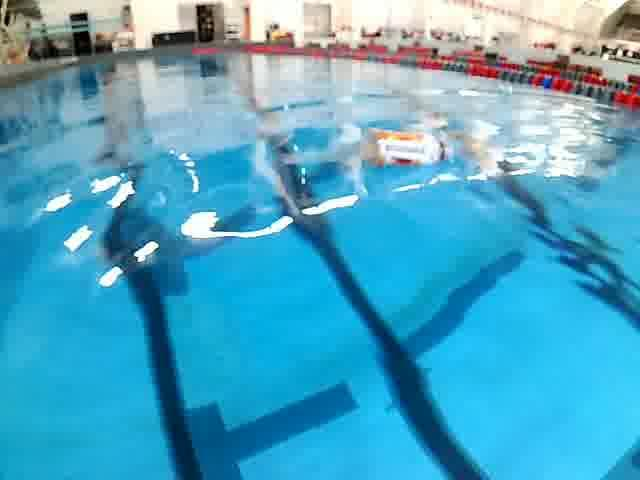Bottle: (350, 123, 466, 171)
